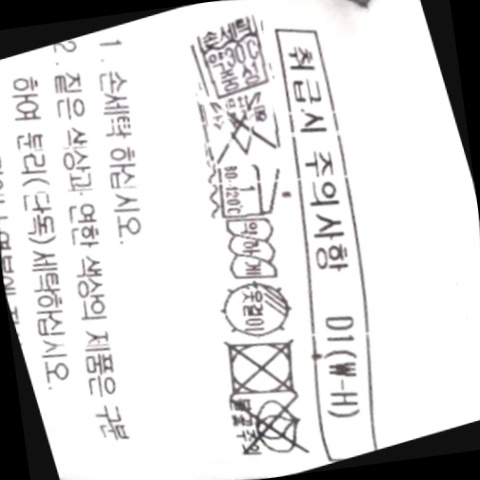DN_tumble_dry: (204, 318, 314, 415)
hand_wash: (179, 7, 285, 108)
iron_low: (201, 147, 291, 233)
line_dry_in_shade: (206, 266, 308, 353)
wring: (210, 206, 291, 294)
